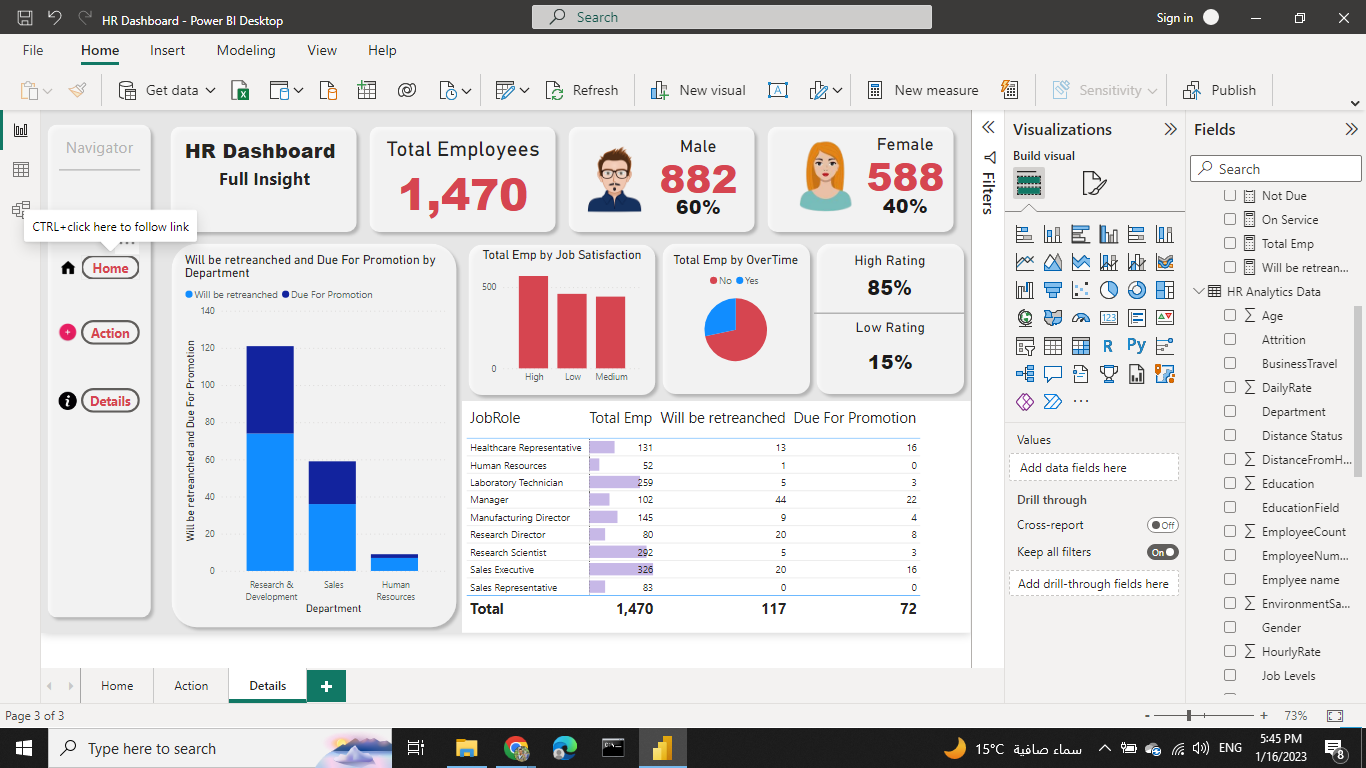

What the dashboard file says about the page in this screenshot:
{"tool":"powerbi","page":{"name":"Details","canvas":[1280,720],"ordinal":2},"visuals":[{"type":"shape","box":[0,11.3,160.2,695.9],"z":0},{"type":"shape","box":[169.7,13.4,273.8,162.9],"z":1000},{"type":"shape","box":[443.5,13.4,273.8,162.9],"z":2000},{"type":"shape","box":[717.3,13.4,273.8,162.9],"z":3000},{"type":"shape","box":[991.1,13.4,273.8,162.9],"z":4000},{"type":"textbox","box":[193.2,31.9,228.5,48.7],"z":5000},{"type":"textbox","box":[226.8,72.2,161.3,47],"z":6000},{"type":"card","title":"Total Employees","fields":{"Values":["All Measures.Total Emp"]},"box":[467,35.3,228.5,119.3],"z":7000},{"type":"card","title":"Male","fields":{"Values":["All Measures.Male"]},"box":[841.6,35.3,127.7,84],"z":8000},{"type":"card","title":"Male","fields":{"Values":["All Measures.% Male"]},"box":[841.6,92.4,127.7,84],"z":9000},{"type":"card","title":"Female","fields":{"Values":["All Measures.Female"]},"box":[1125.4,33.5,127.7,84],"z":10000},{"type":"card","title":"Male","fields":{"Values":["All Measures.% Female"]},"box":[1125.4,90.6,127.7,84],"z":11000},{"type":"image","box":[735.7,38.6,105.8,112.5],"z":12000},{"type":"image","box":[1016.3,25.2,127.7,132.7],"z":13000},{"type":"shape","box":[170.1,174.3,409.6,545.7],"z":14000},{"type":"columnChart","fields":{"Category":["HR Analytics Data.Department"],"Y":["All Measures.Will be retreanched","All Measures.Due For Promotion"]},"box":[192.8,195.6,368.5,503.1],"z":15000},{"type":"shape","box":[846.1,174.3,221.1,225.4],"z":16000},{"type":"shape","box":[1058.7,174.3,221.1,225.4],"z":17000},{"type":"pieChart","fields":{"Category":["HR Analytics Data.OverTime"],"Y":["All Measures.Total Emp"]},"box":[854.6,195.6,202.7,165.8],"z":18000},{"type":"shape","box":[579.7,175.7,275,225.4],"z":19000},{"type":"columnChart","fields":{"Y":["All Measures.Total Emp"],"Category":["HR Analytics Data.Job Satisfaction"]},"box":[600.9,188.5,231,197],"z":20000},{"type":"shape","box":[1064.4,269.3,208.3,19.8],"z":21000},{"type":"tableEx","fields":{"Values":["HR Analytics Data.JobRole","All Measures.Total Emp","All Measures.Will be retreanched","All Measures.Due For Promotion"]},"box":[579.7,401.1,700.2,318.9],"z":22000},{"type":"card","title":"High Rating","fields":{"Values":["All Measures.% High Rating"]},"box":[1104.1,195.6,129,76.5],"z":23000},{"type":"card","title":"Low Rating","fields":{"Values":["All Measures.% Low Rating"]},"box":[1084.3,287.7,168.7,97.8],"z":24000},{"type":"actionButton","box":[55.3,199.8,80.8,34],"z":25000},{"type":"textbox","box":[28.3,31.2,119.1,49.6],"z":26000},{"type":"shape","box":[24.1,45.4,112,73.7],"z":27000},{"type":"actionButton","box":[55.3,289.1,80.8,34],"z":28000},{"type":"actionButton","box":[55.3,382.7,80.8,34],"z":29000},{"type":"image","box":[19.8,199.8,35.4,34],"z":30000},{"type":"image","box":[19.8,282,35.4,46.8],"z":31000},{"type":"image","box":[19.8,379.8,35.4,41.1],"z":32000}]}

Visuals, with their boxes on the page's 1280x720 design canvas (x1, y1, x2, y2). These are canvas units, not pixel positions in the 1366x768 screenshot, which may show the page scaled, cropped or inside an application window:
shape: rect(0, 11, 160, 707)
shape: rect(170, 13, 444, 176)
shape: rect(444, 13, 717, 176)
shape: rect(717, 13, 991, 176)
shape: rect(991, 13, 1265, 176)
textbox: rect(193, 32, 422, 81)
textbox: rect(227, 72, 388, 119)
"Total Employees" card: rect(467, 35, 696, 155)
"Male" card: rect(842, 35, 969, 119)
"Male" card: rect(842, 92, 969, 176)
"Female" card: rect(1125, 34, 1253, 118)
"Male" card: rect(1125, 91, 1253, 175)
image: rect(736, 39, 842, 151)
image: rect(1016, 25, 1144, 158)
shape: rect(170, 174, 580, 720)
columnChart - HR Analytics Data.Department x All Measures.Will be retreanched: rect(193, 196, 561, 699)
shape: rect(846, 174, 1067, 400)
shape: rect(1059, 174, 1280, 400)
pieChart - HR Analytics Data.OverTime x All Measures.Total Emp: rect(855, 196, 1057, 361)
shape: rect(580, 176, 855, 401)
columnChart - All Measures.Total Emp x HR Analytics Data.Job Satisfaction: rect(601, 188, 832, 386)
shape: rect(1064, 269, 1273, 289)
tableEx - HR Analytics Data.JobRole x All Measures.Total Emp: rect(580, 401, 1280, 720)
"High Rating" card: rect(1104, 196, 1233, 272)
"Low Rating" card: rect(1084, 288, 1253, 386)
actionButton: rect(55, 200, 136, 234)
textbox: rect(28, 31, 147, 81)
shape: rect(24, 45, 136, 119)
actionButton: rect(55, 289, 136, 323)
actionButton: rect(55, 383, 136, 417)
image: rect(20, 200, 55, 234)
image: rect(20, 282, 55, 329)
image: rect(20, 380, 55, 421)
